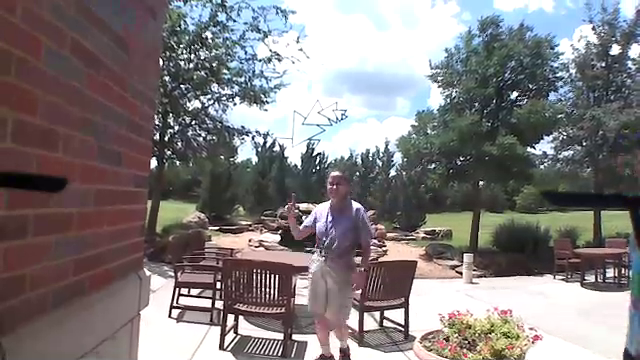up: (282, 188, 301, 222)
